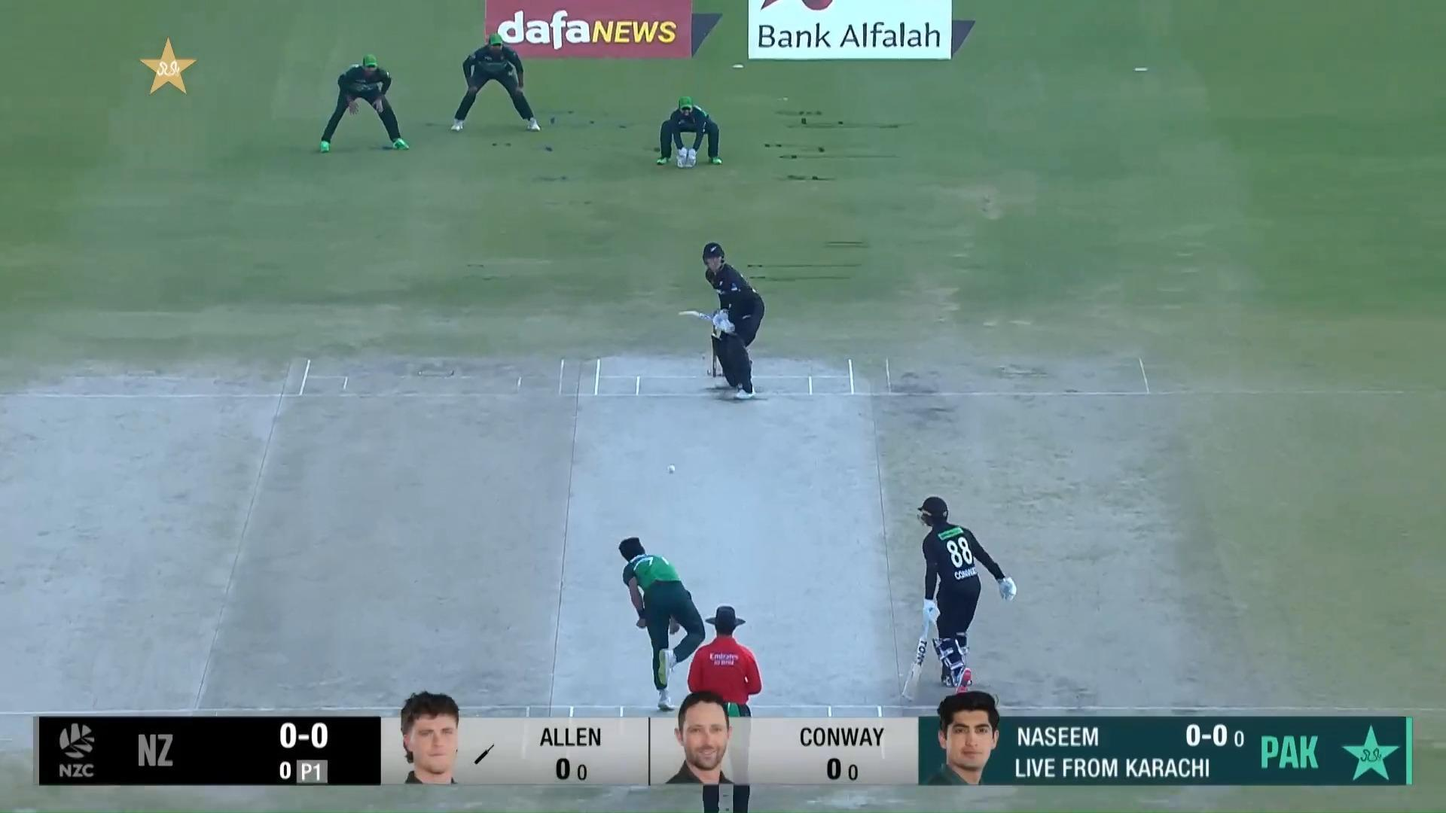BM 1: (677, 243, 766, 400)
BO: (617, 535, 707, 711)
